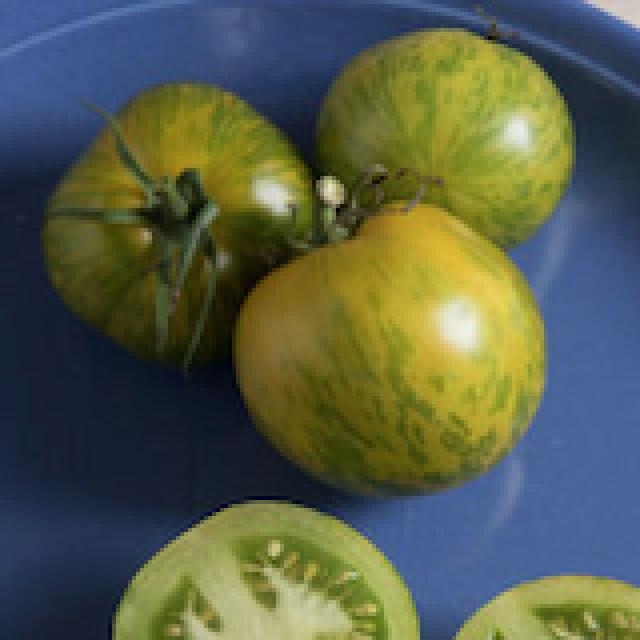unripe tomato: (54, 13, 574, 491)
